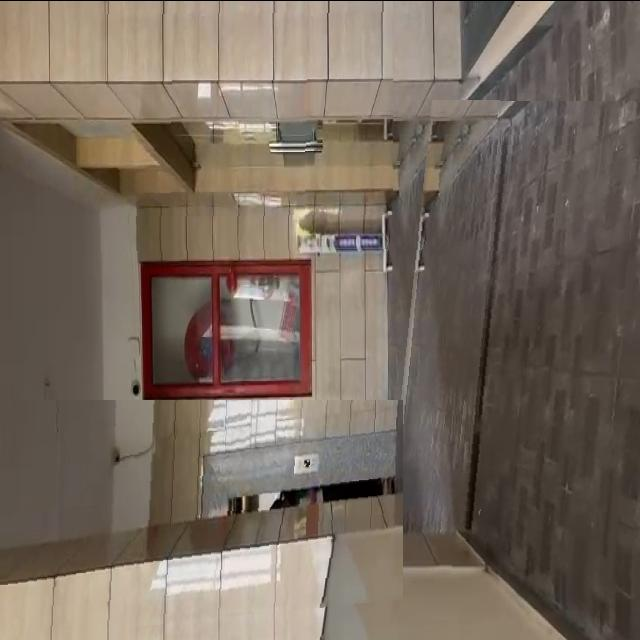floor: (383, 99, 640, 573)
wall: (0, 399, 403, 640), (102, 0, 394, 250)
